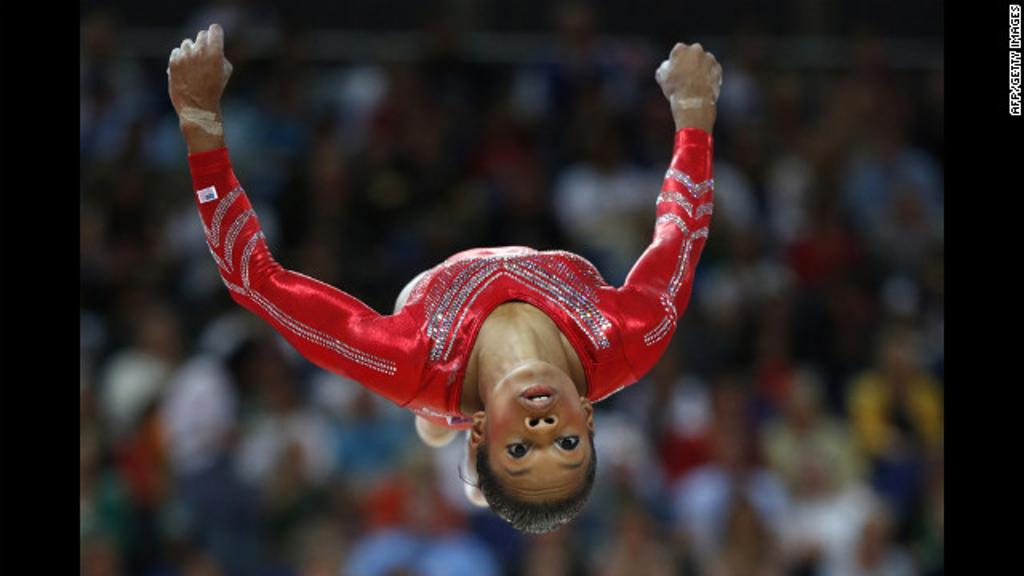face: (490, 366, 594, 520)
